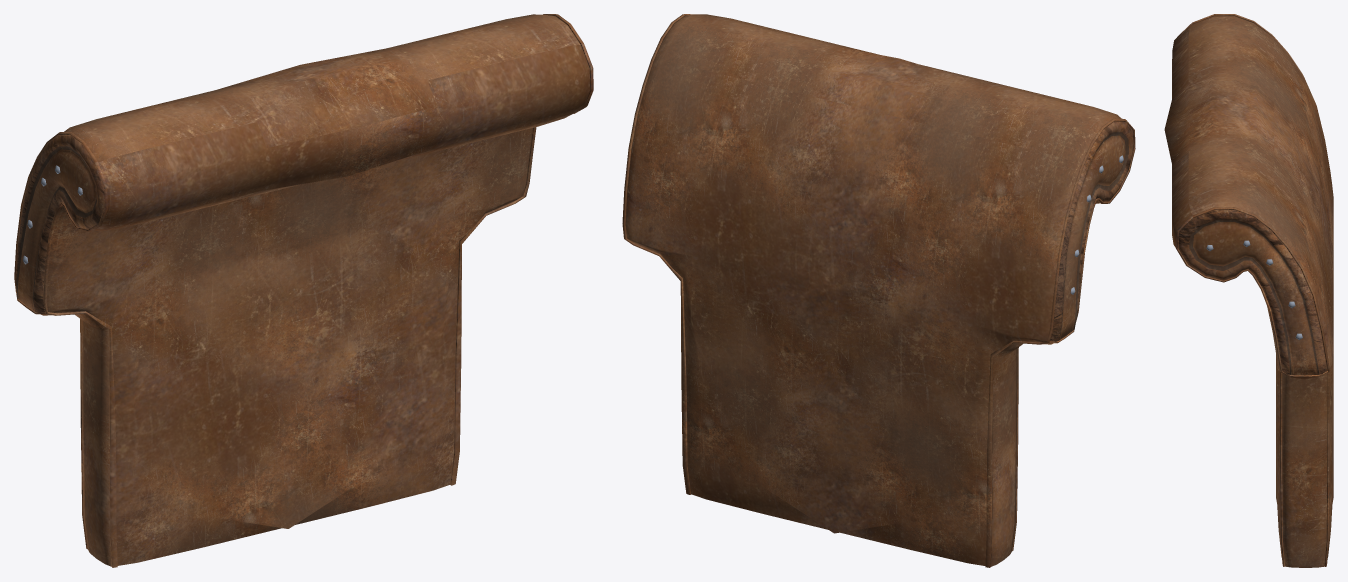
File: SeatBCusionRest.fbx
3 views of the same model, side by side, from view 1: azimuth 30°, elevation 25°; view 2: azimuth 150°, elevation 25°; view 3: azimuth 270°, elevation 25° (orthographic). The views are drawn at different scales.
Visible parts, largest first — view 1: SeatBCusionRest; view 2: SeatBCusionRest; view 3: SeatBCusionRest.
Boxes of the visible parts, left/top/right/bottom form: SeatBCusionRest: left=14, top=14, right=593, bottom=567; SeatBCusionRest: left=622, top=14, right=1135, bottom=567; SeatBCusionRest: left=1164, top=14, right=1333, bottom=567.
Size of the model in its own units: 120 by 110 by 42.75.
